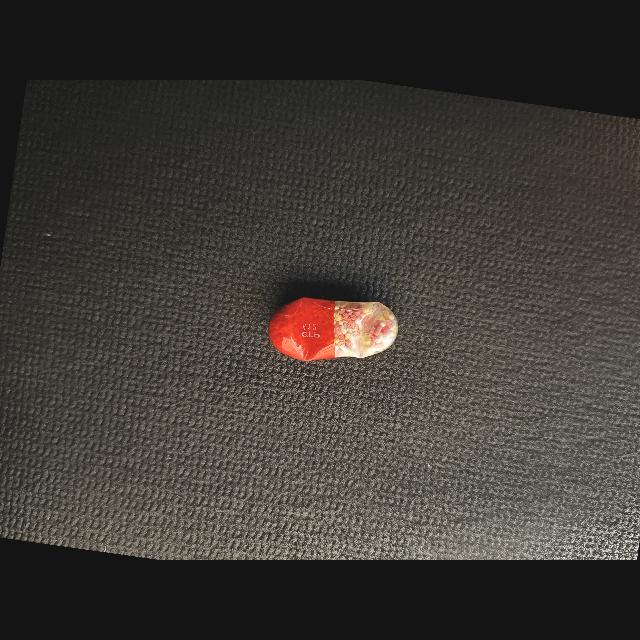Defective Capsule: (268, 297, 398, 361)
